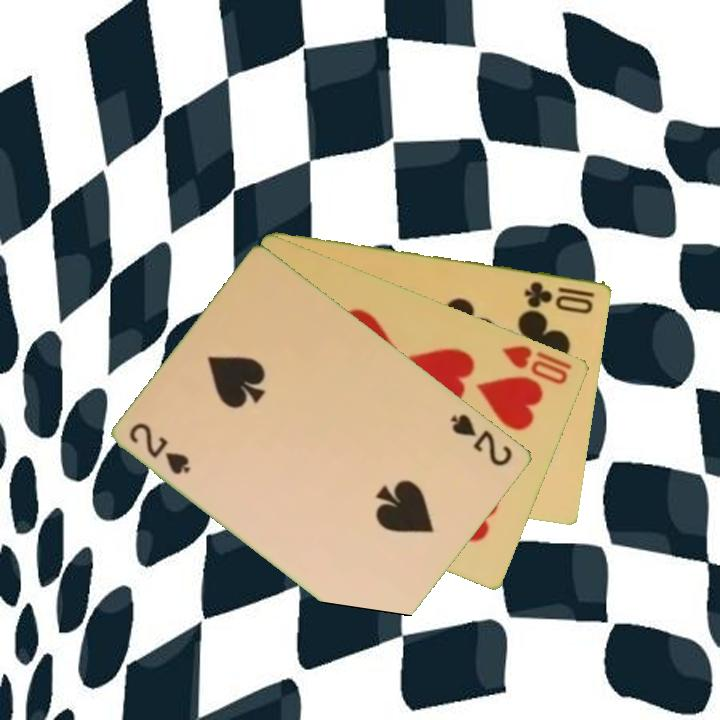10c: (521, 277, 599, 316)
10h: (499, 341, 575, 387)
2s: (447, 410, 516, 470), (126, 418, 195, 478)
